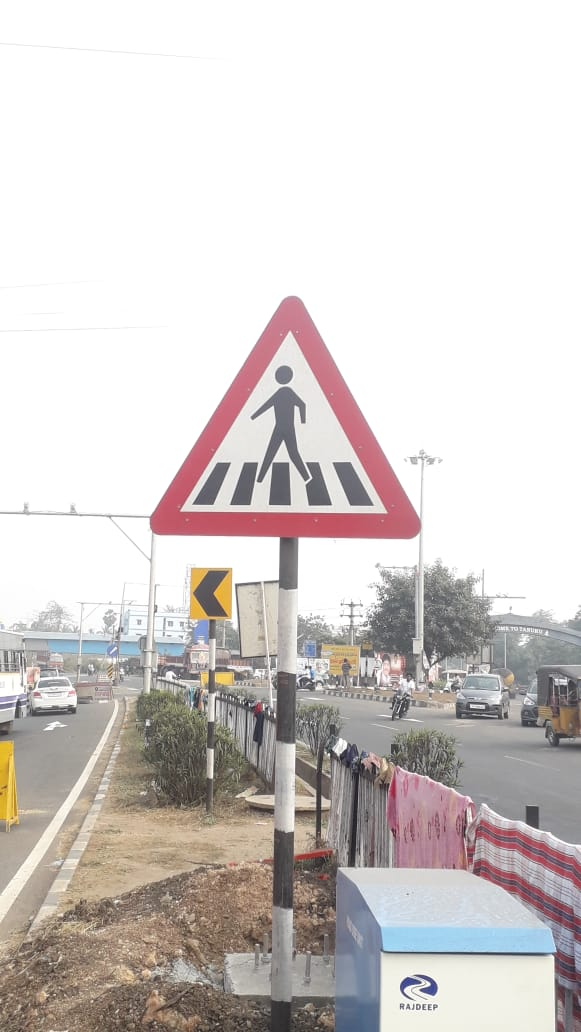pedestrian crossing: (143, 264, 454, 603)
